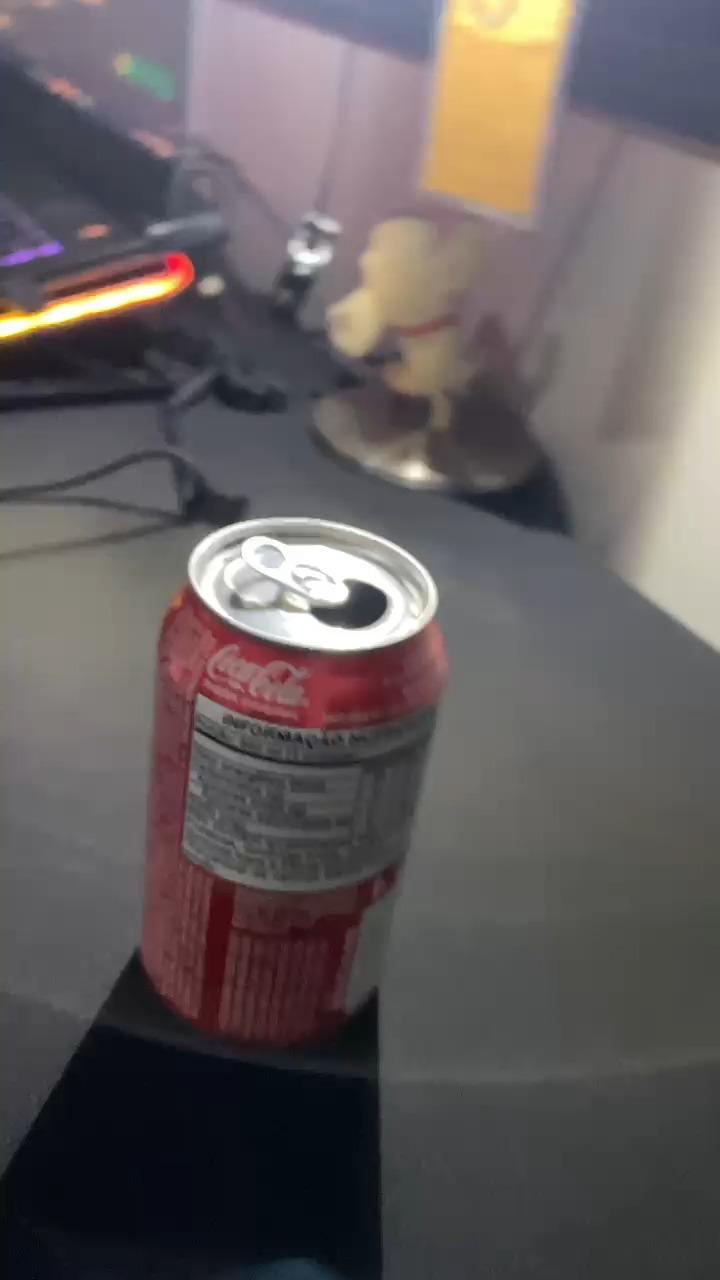coke: (140, 516, 447, 1044)
